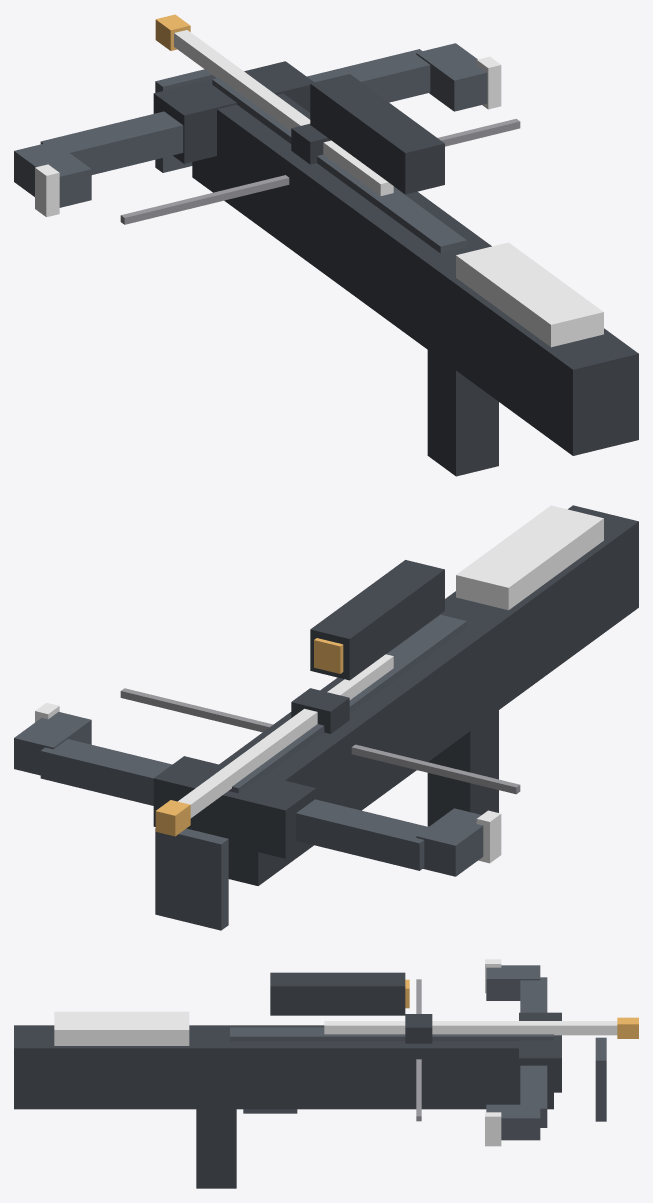
Rendered from CROSSBOW.gltf.
3 views of the same model, one above another, from view 1: azimuth 30°, elevation 25°; view 2: azimuth 150°, elevation 25°; view 3: azimuth 270°, elevation 25° (orthographic). The views are drawn at different scales.
Visible parts, largest first — view 1: CROSSBOW; view 2: CROSSBOW; view 3: CROSSBOW.
Part boxes in pixels (left/top/right/bottom): CROSSBOW: left=14, top=14, right=638, bottom=476; CROSSBOW: left=14, top=505, right=638, bottom=930; CROSSBOW: left=14, top=959, right=638, bottom=1188.
Size of the model in its own units: 0.276 by 0.165 by 0.463.
